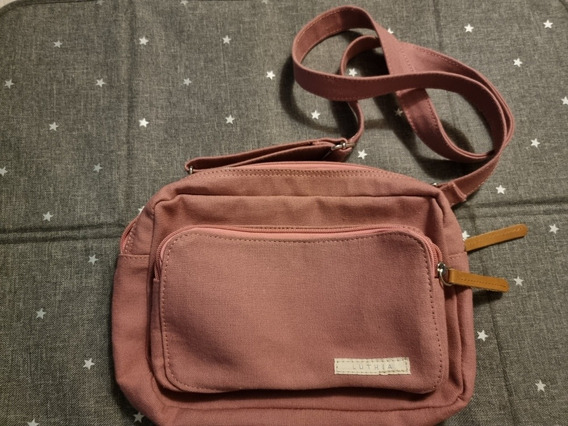cartera: (107, 155, 480, 426)
